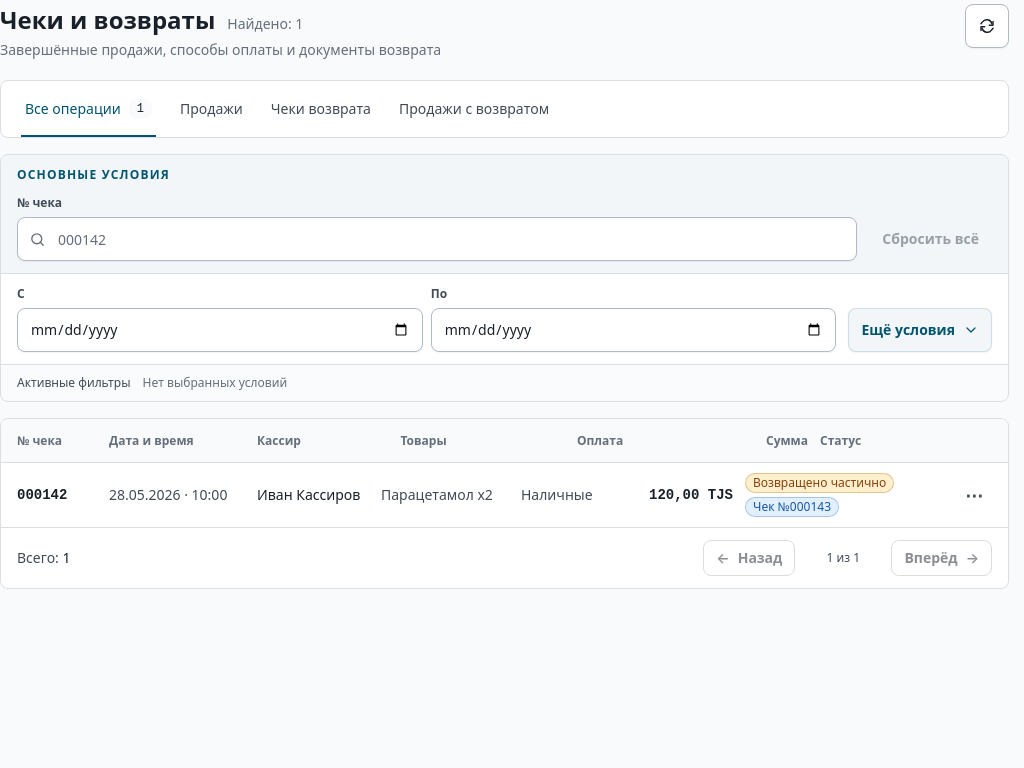
Test case: SalesPage › opens the detail modal on row click and loads full receipt
Step 1. Click the button with aria-label "Открыть чек № 000142" → (42, 495), box [1,463,1008,527]
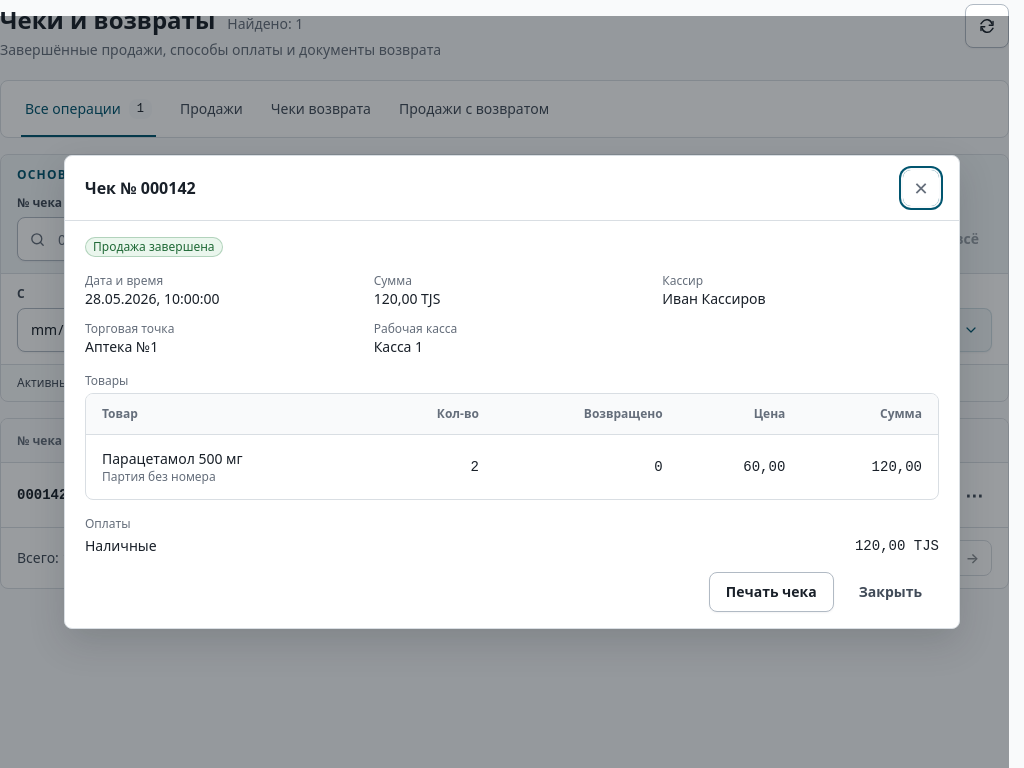
Expected: the heading "Чек № 000142" is shown, [85,176,196,200]
Expected: the text "Парацетамол 500 мг" is shown, [102,449,243,468]
